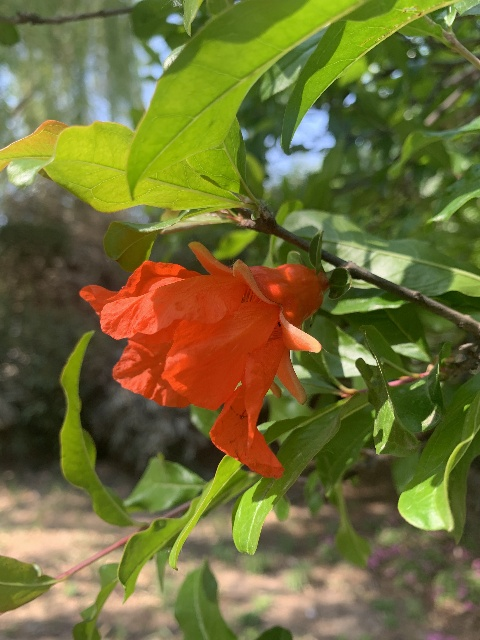flower: (81, 240, 328, 479)
